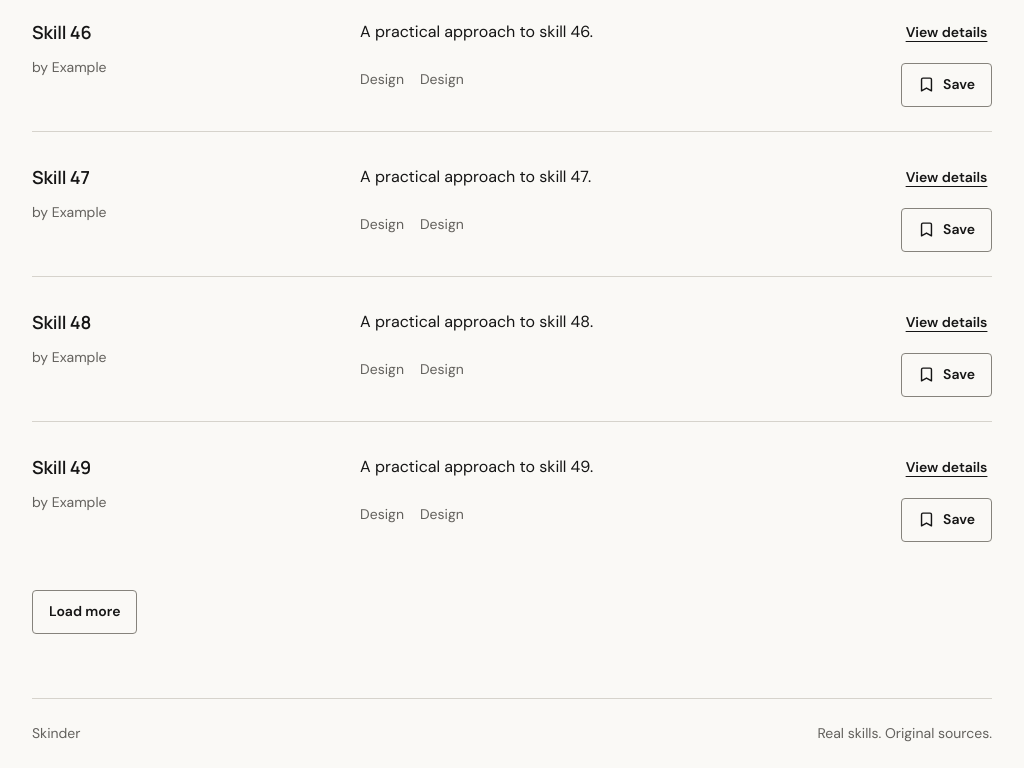
Test case: skill discovery › uses server totals and categories while loading one catalog page at a time
(page scrolled)
Expected: the heading "Skill 50" is not shown
Click the button "Load more" at (85, 612), box [32,590,138,634]
(page scrolled)
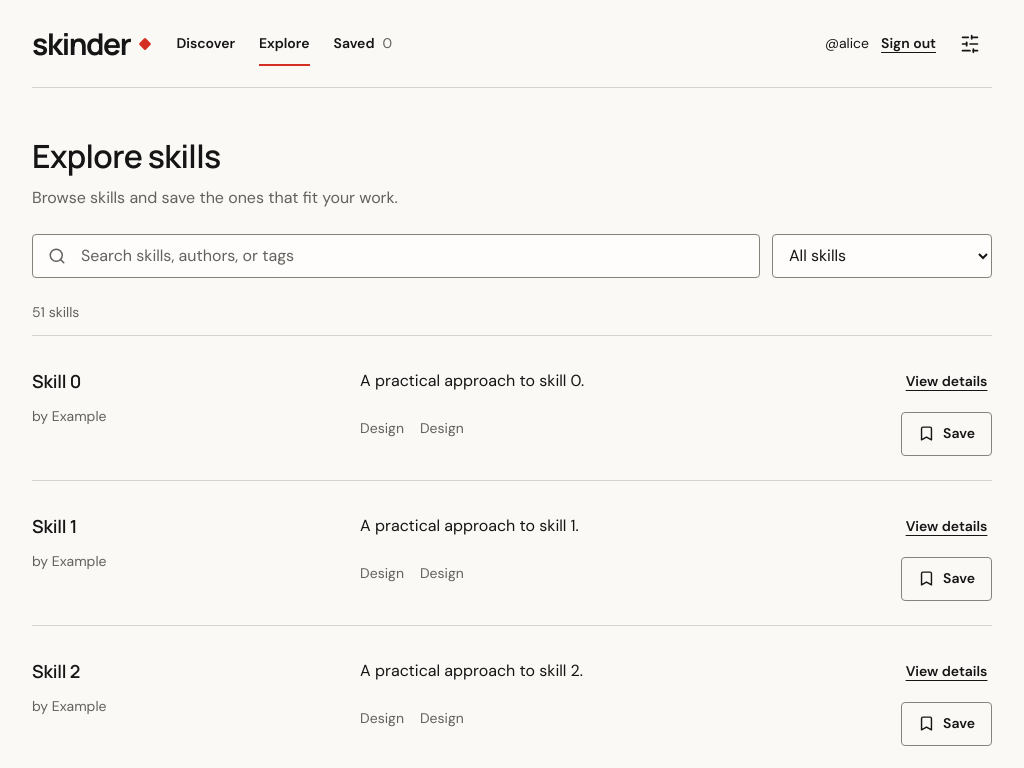
Result: the button "Load more" is gone
Select "Writing" in the dropdown named "Category" at (882, 256), box [772,234,992,278]
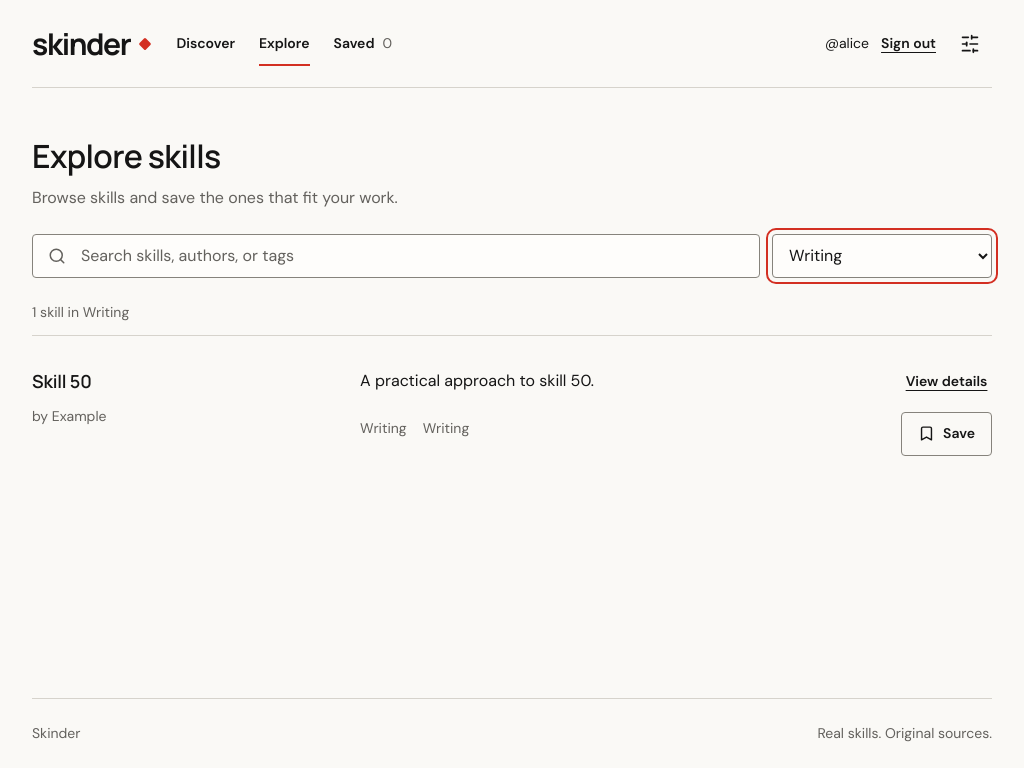
Result: the text "1 skill in Writing" is shown at [32,303,129,321]
